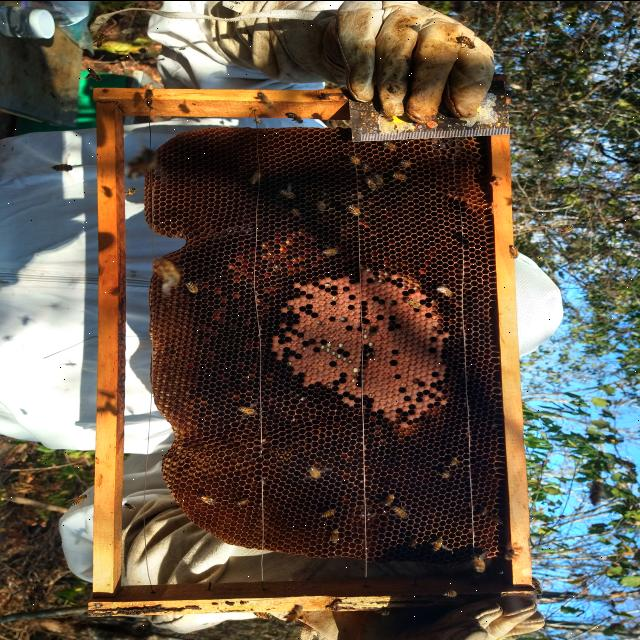cria: (271, 263, 450, 448)
marco: (126, 119, 482, 583)
